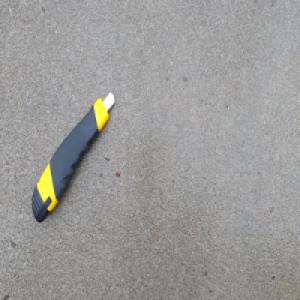Cutter: (31, 90, 115, 224)
